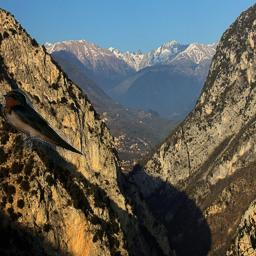Swallow: (0, 89, 85, 157)
